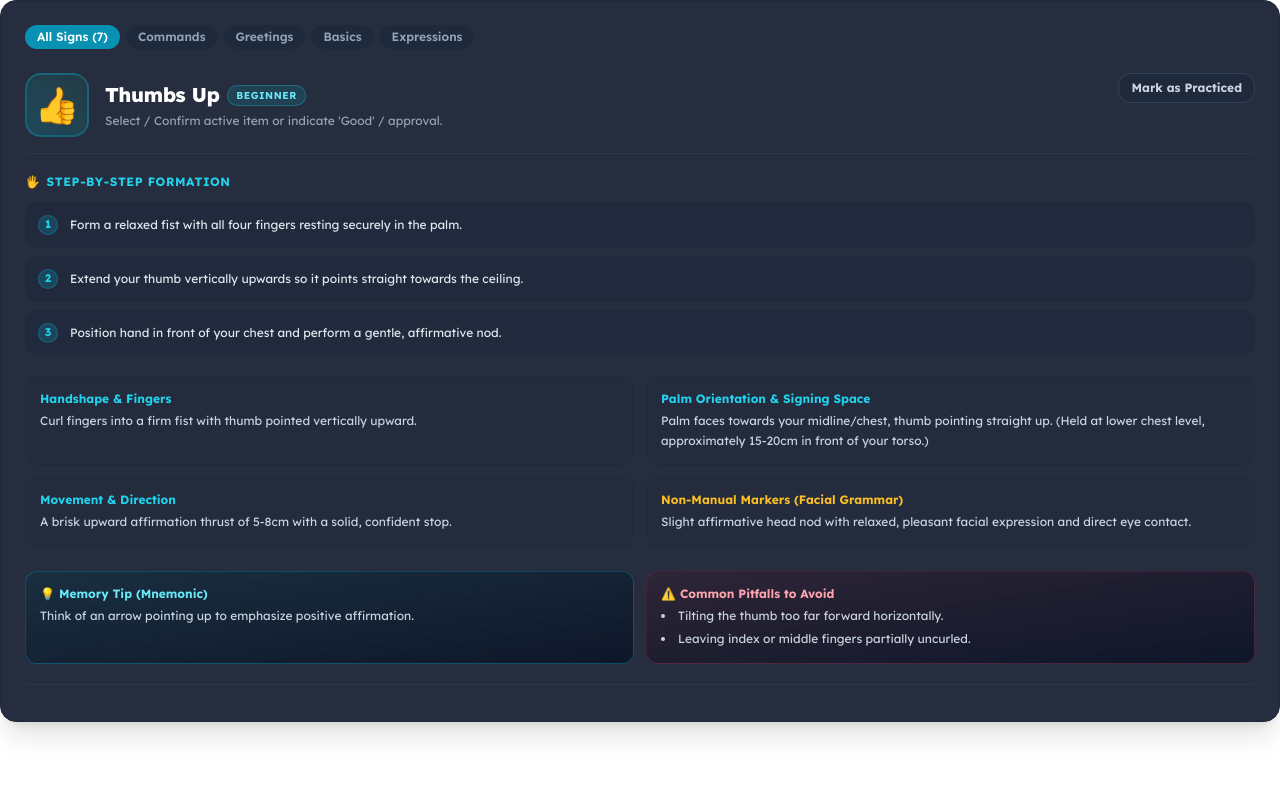
it: GestureExplanation Component › toggles mastered/practiced status
This screenshot has width=1280, height=800.
Click the button with test id "mark-practiced-btn".
click(1187, 88)  # box [1118,73,1255,103]
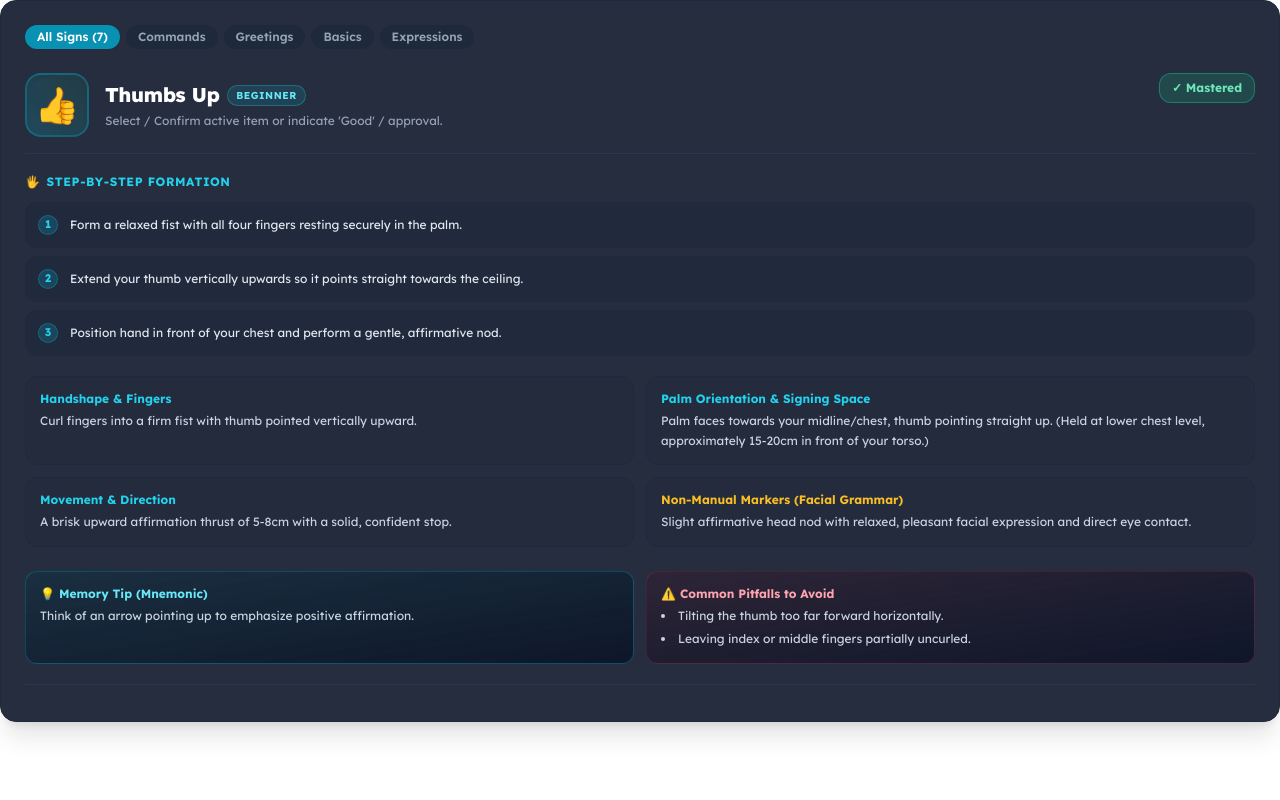
Expected: the button with test id "mark-practiced-btn" reads "✓ Mastered"
Click the button with test id "mark-practiced-btn".
click(1207, 88)  # box [1159,73,1255,103]
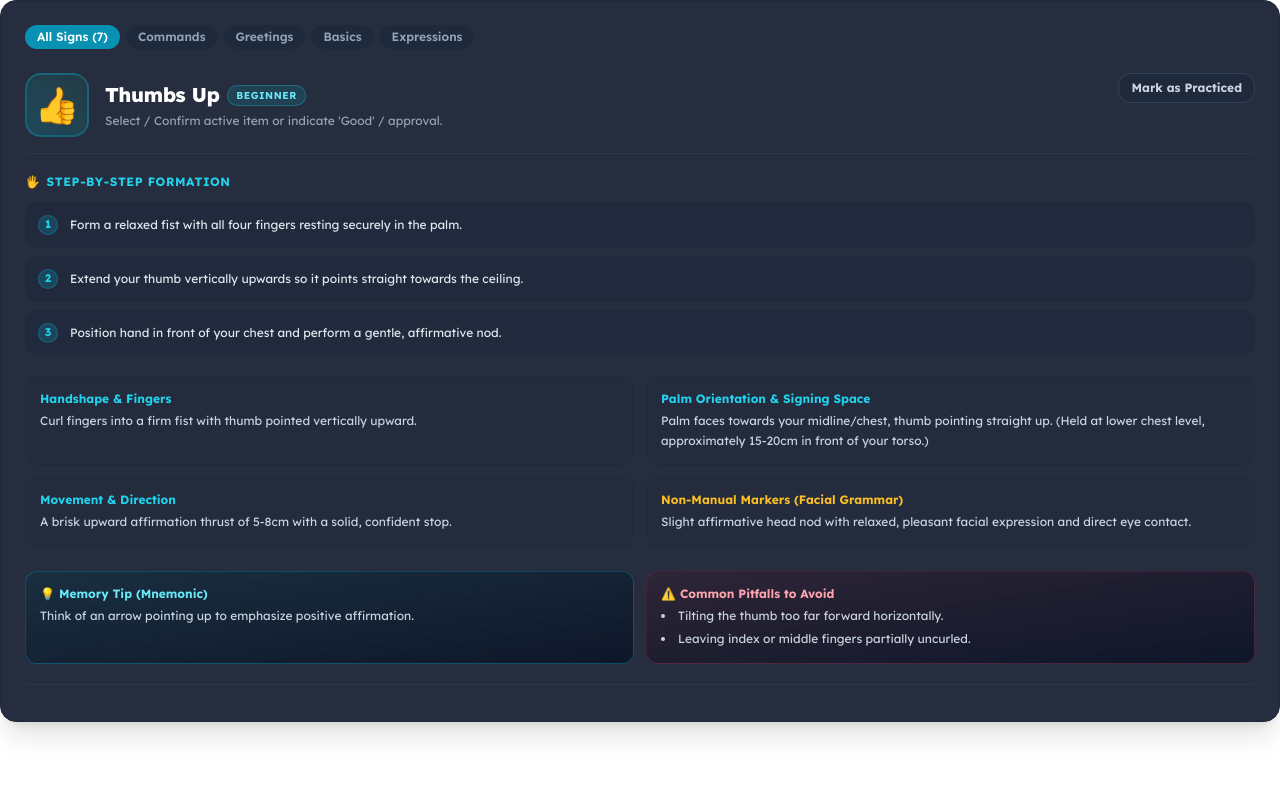
Expected: the button with test id "mark-practiced-btn" reads "Mark as Practiced", [1118,73,1255,103]
